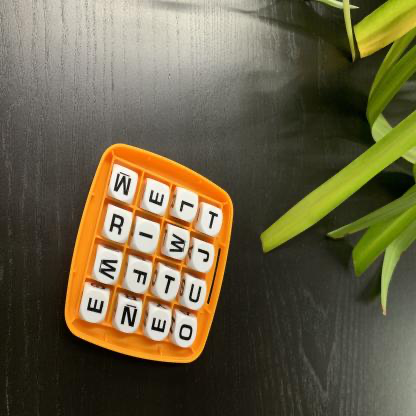e: (81, 289, 109, 324), (146, 182, 170, 214), (149, 309, 172, 342)
f: (128, 261, 152, 294)
i: (135, 221, 159, 254)
j: (194, 242, 215, 273)
l: (176, 192, 199, 222)
m: (112, 168, 138, 202)
n: (118, 301, 141, 335)
o: (176, 317, 198, 348)
r: (106, 209, 133, 243)
t: (157, 270, 181, 302), (203, 207, 224, 237)
u: (185, 278, 207, 310)
w: (96, 251, 122, 284), (168, 228, 190, 259)
